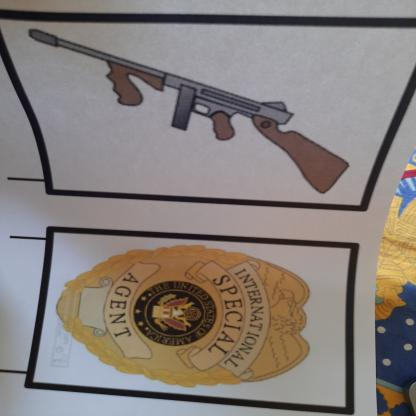Bootlegger: (19, 21, 369, 200)
G-man: (46, 232, 331, 398)
